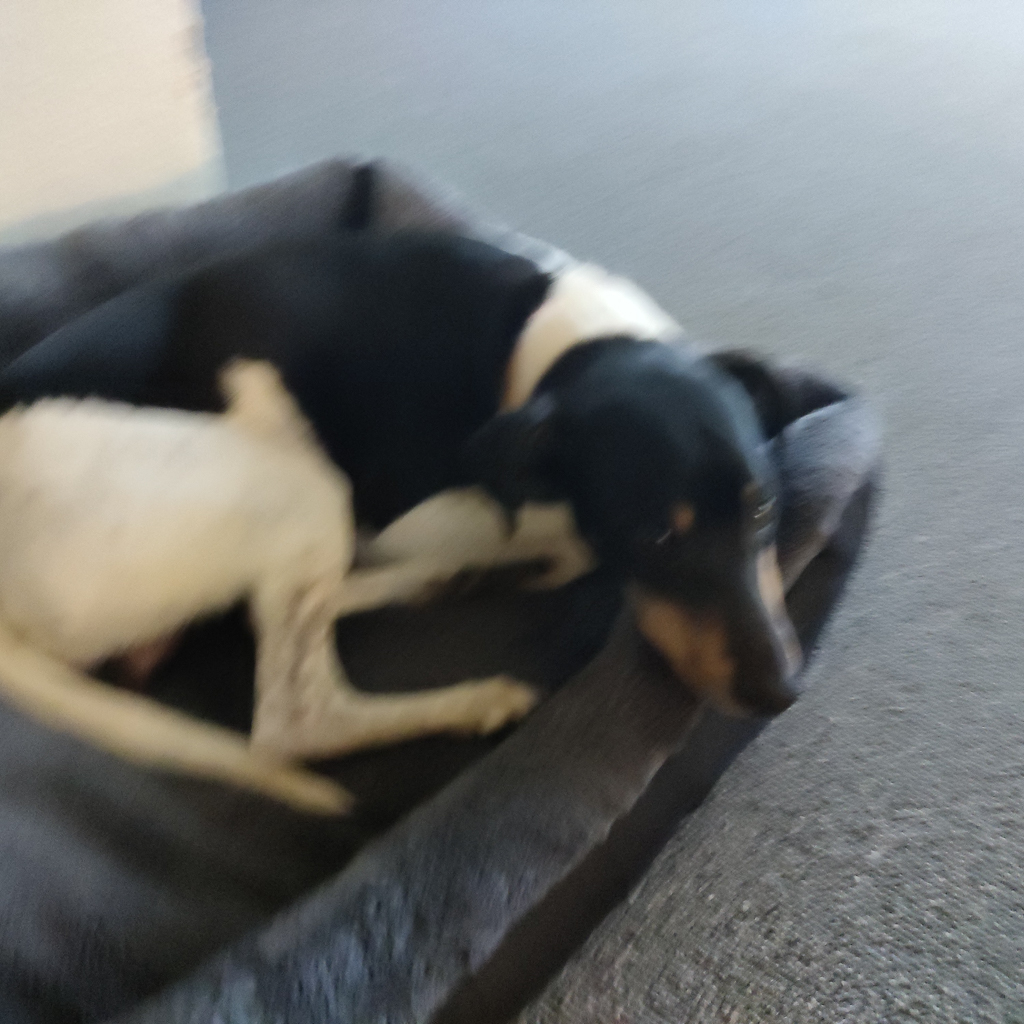Dog: (0, 186, 864, 849)
